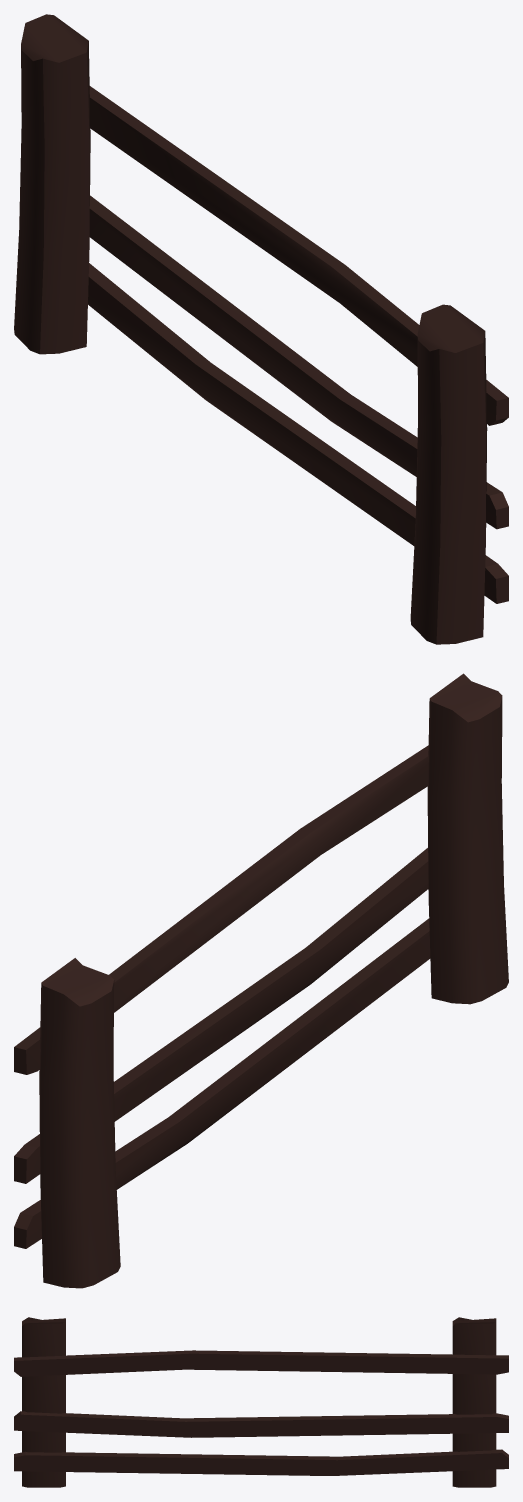
The model's file is fence.fbx.
3 views of the same model, one above another, from view 1: azimuth 30°, elevation 25°; view 2: azimuth 150°, elevation 25°; view 3: azimuth 270°, elevation 25° (orthographic). The views are drawn at different scales.
Visible parts, largest first — view 1: Box1547; view 2: Box1547; view 3: Box1547.
Boxes of the visible parts, left/top/right/bottom form: Box1547: left=14, top=14, right=508, bottom=644; Box1547: left=14, top=673, right=508, bottom=1288; Box1547: left=14, top=1317, right=508, bottom=1487.
Bounding box in the file's own units: 19.56 × 87.83 × 240.
